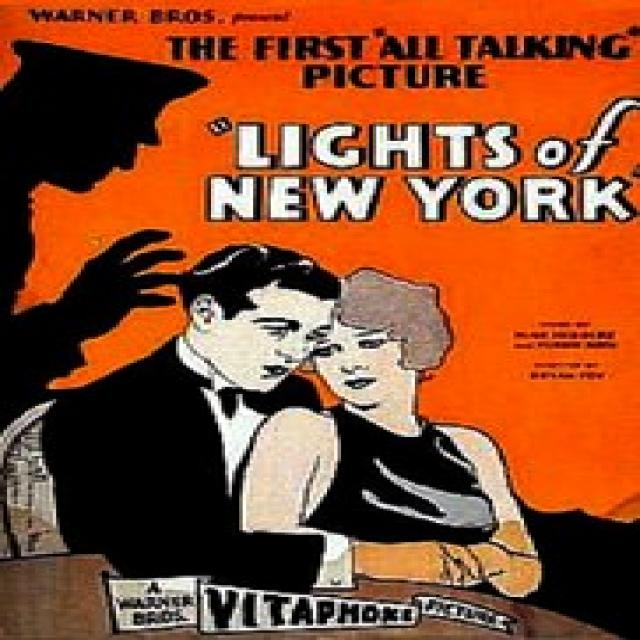movie-judul: (192, 114, 640, 236)
picture: (3, 34, 549, 612)
